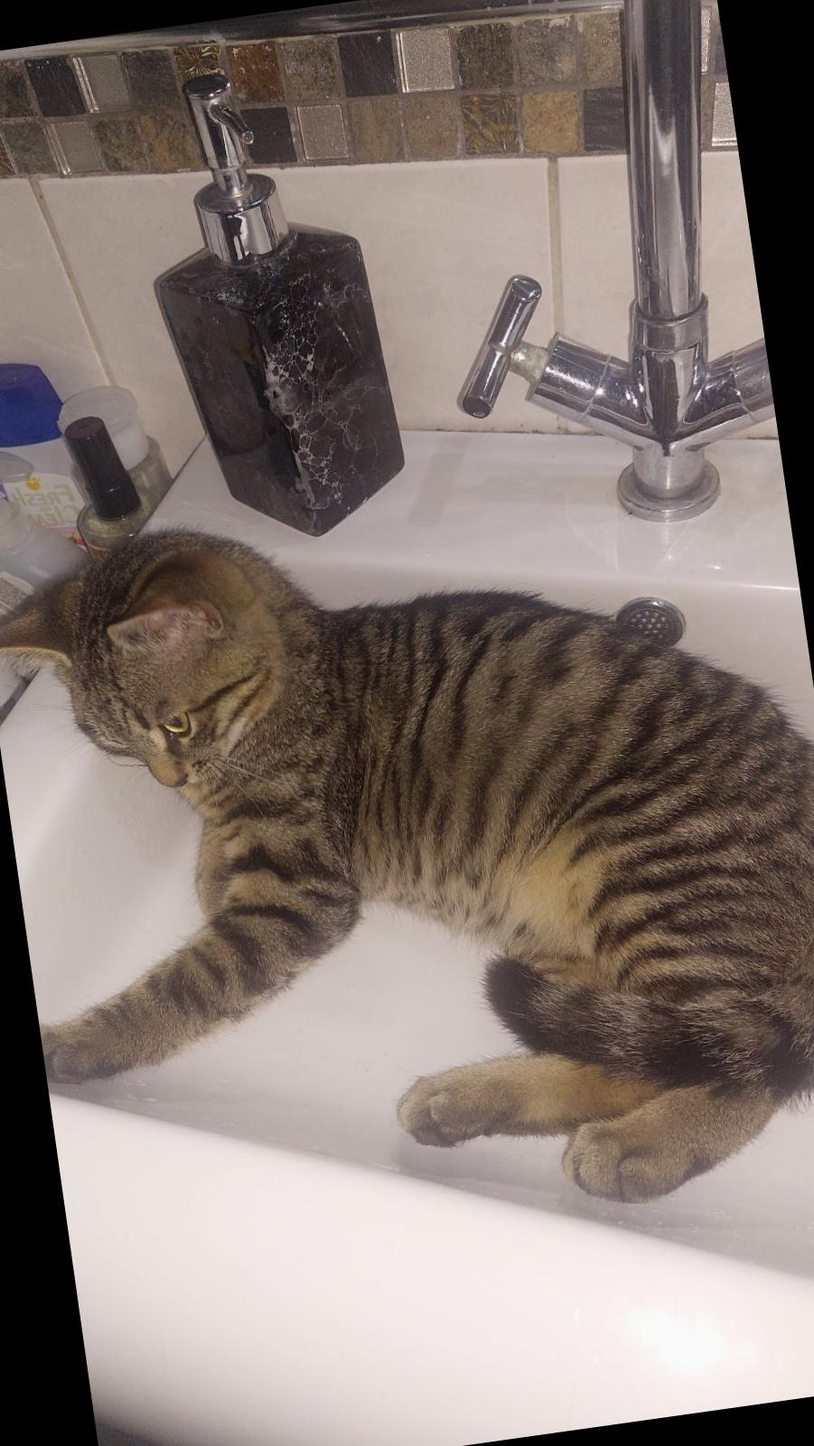macka: (0, 443, 814, 1285)
